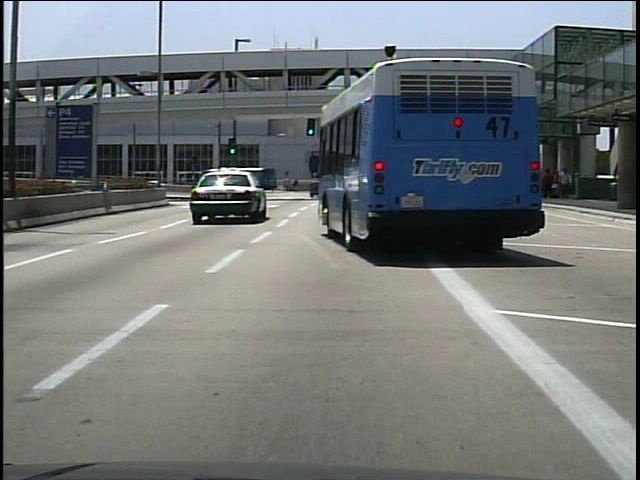person: (557, 166, 575, 201), (543, 167, 558, 200), (291, 177, 302, 196), (280, 176, 291, 193)
